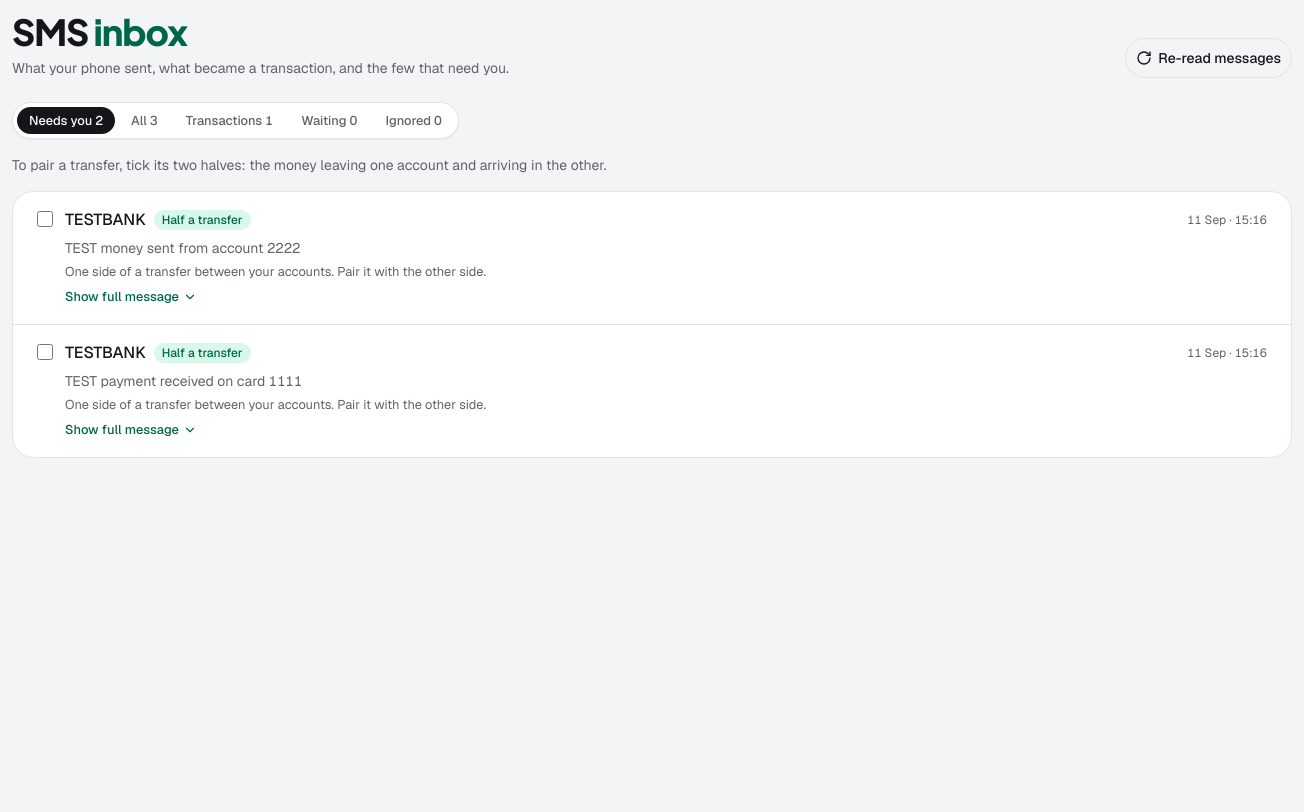
Scenario: SmsInboxPage › does not pair until the user says which one is the debit
Expected: the text "TEST money sent from account 2222" is shown, x1=65 y1=239 x2=300 y2=257
Click the 1st checkbox named "Select the TESTBANK message from 11 Sep for pairing".
click(45, 219)  # box x1=37 y1=211 x2=53 y2=227
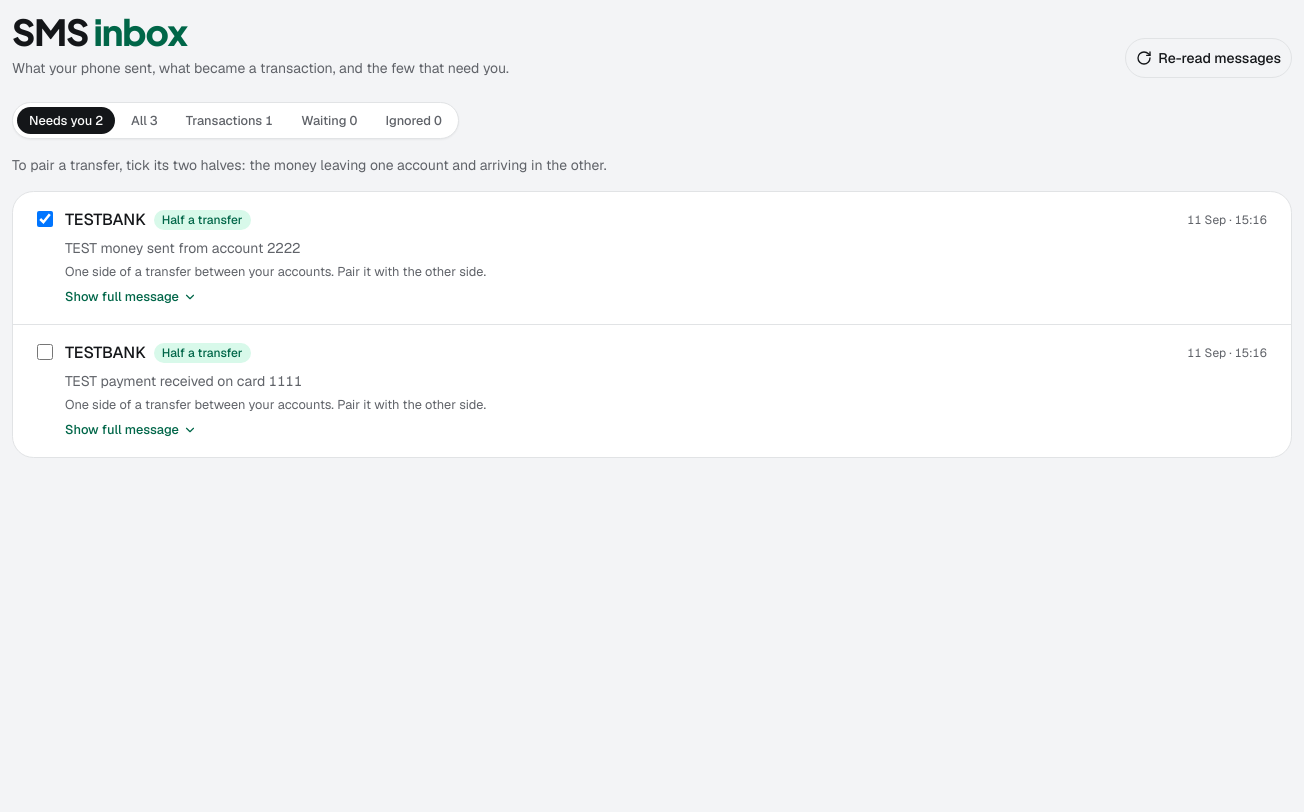
Click the 2nd checkbox named "Select the TESTBANK message from 11 Sep for pairing".
click(45, 352)  # box x1=37 y1=344 x2=53 y2=360
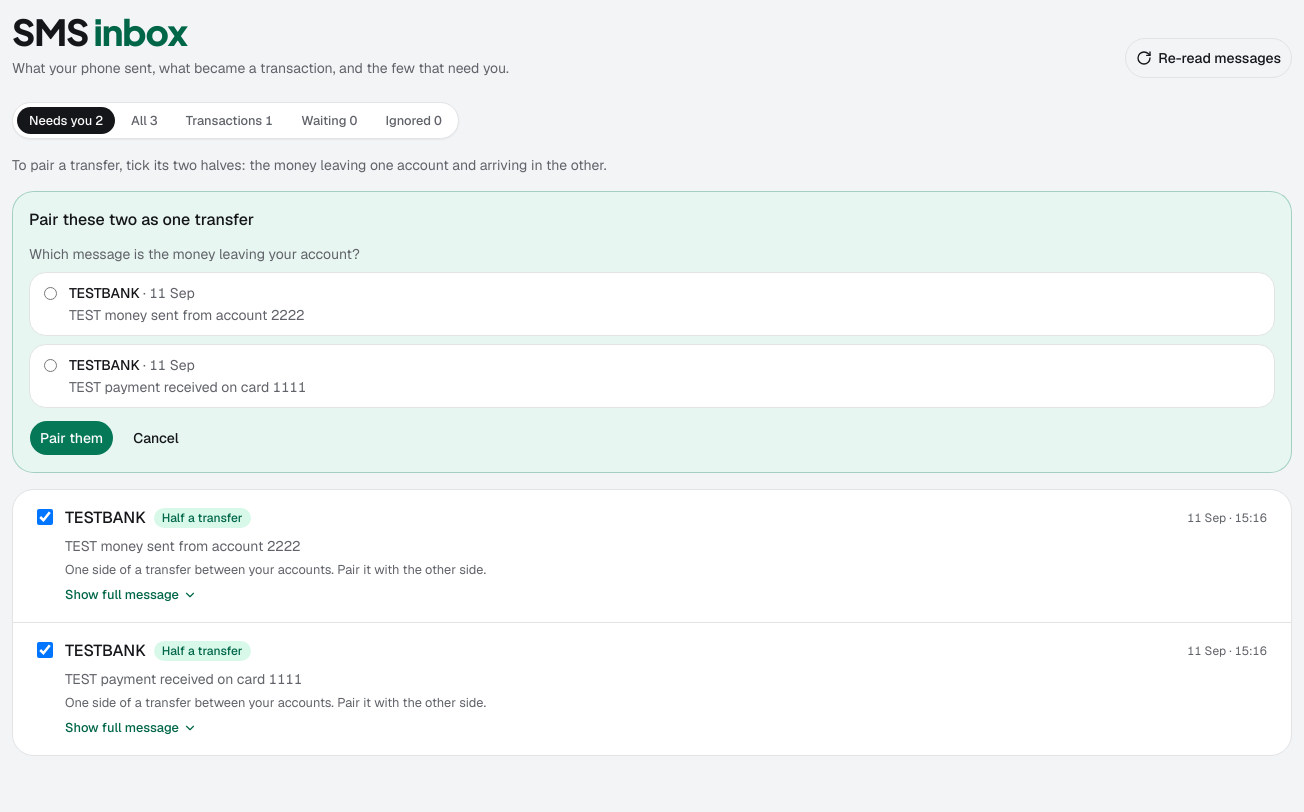
Click the button "Pair them".
click(72, 438)  # box x1=29 y1=420 x2=114 y2=456
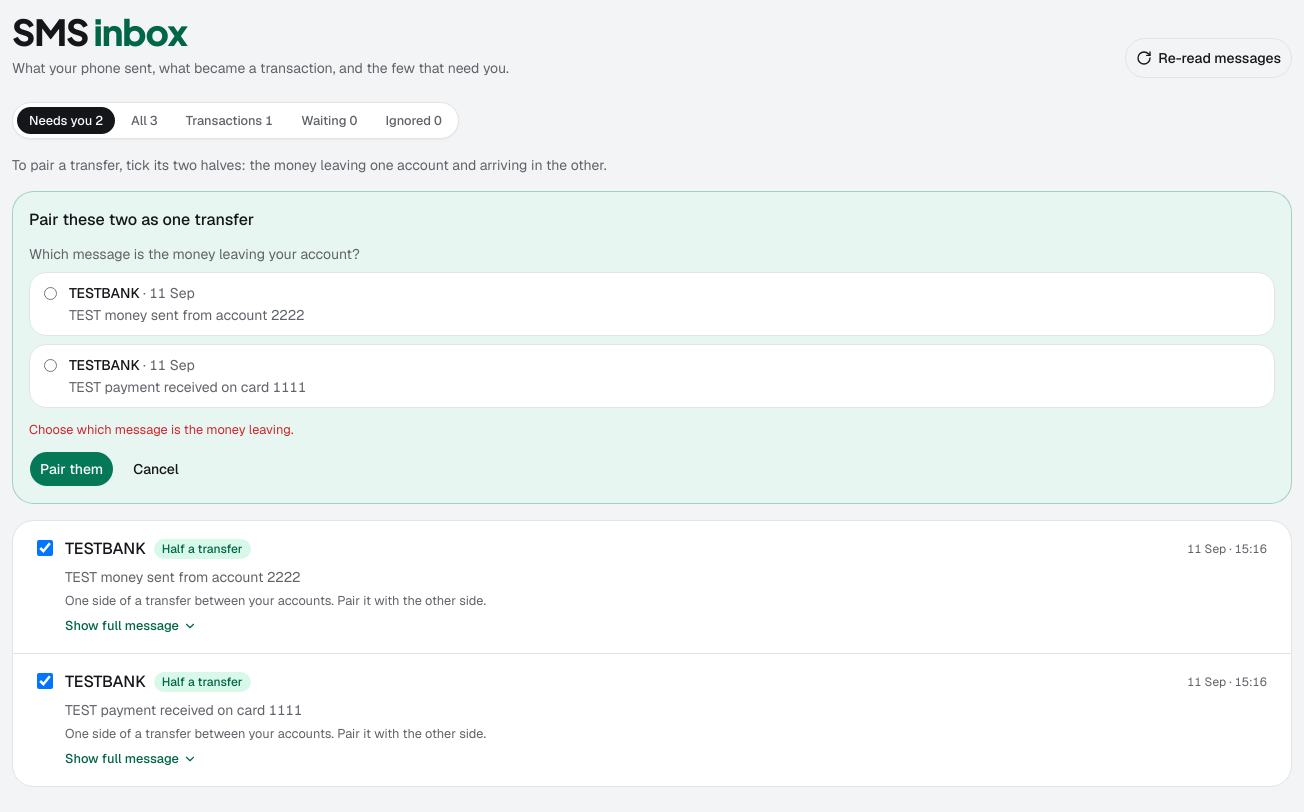
Now the message reads "Choose which message is the money leaving.", box x1=29 y1=421 x2=294 y2=438
